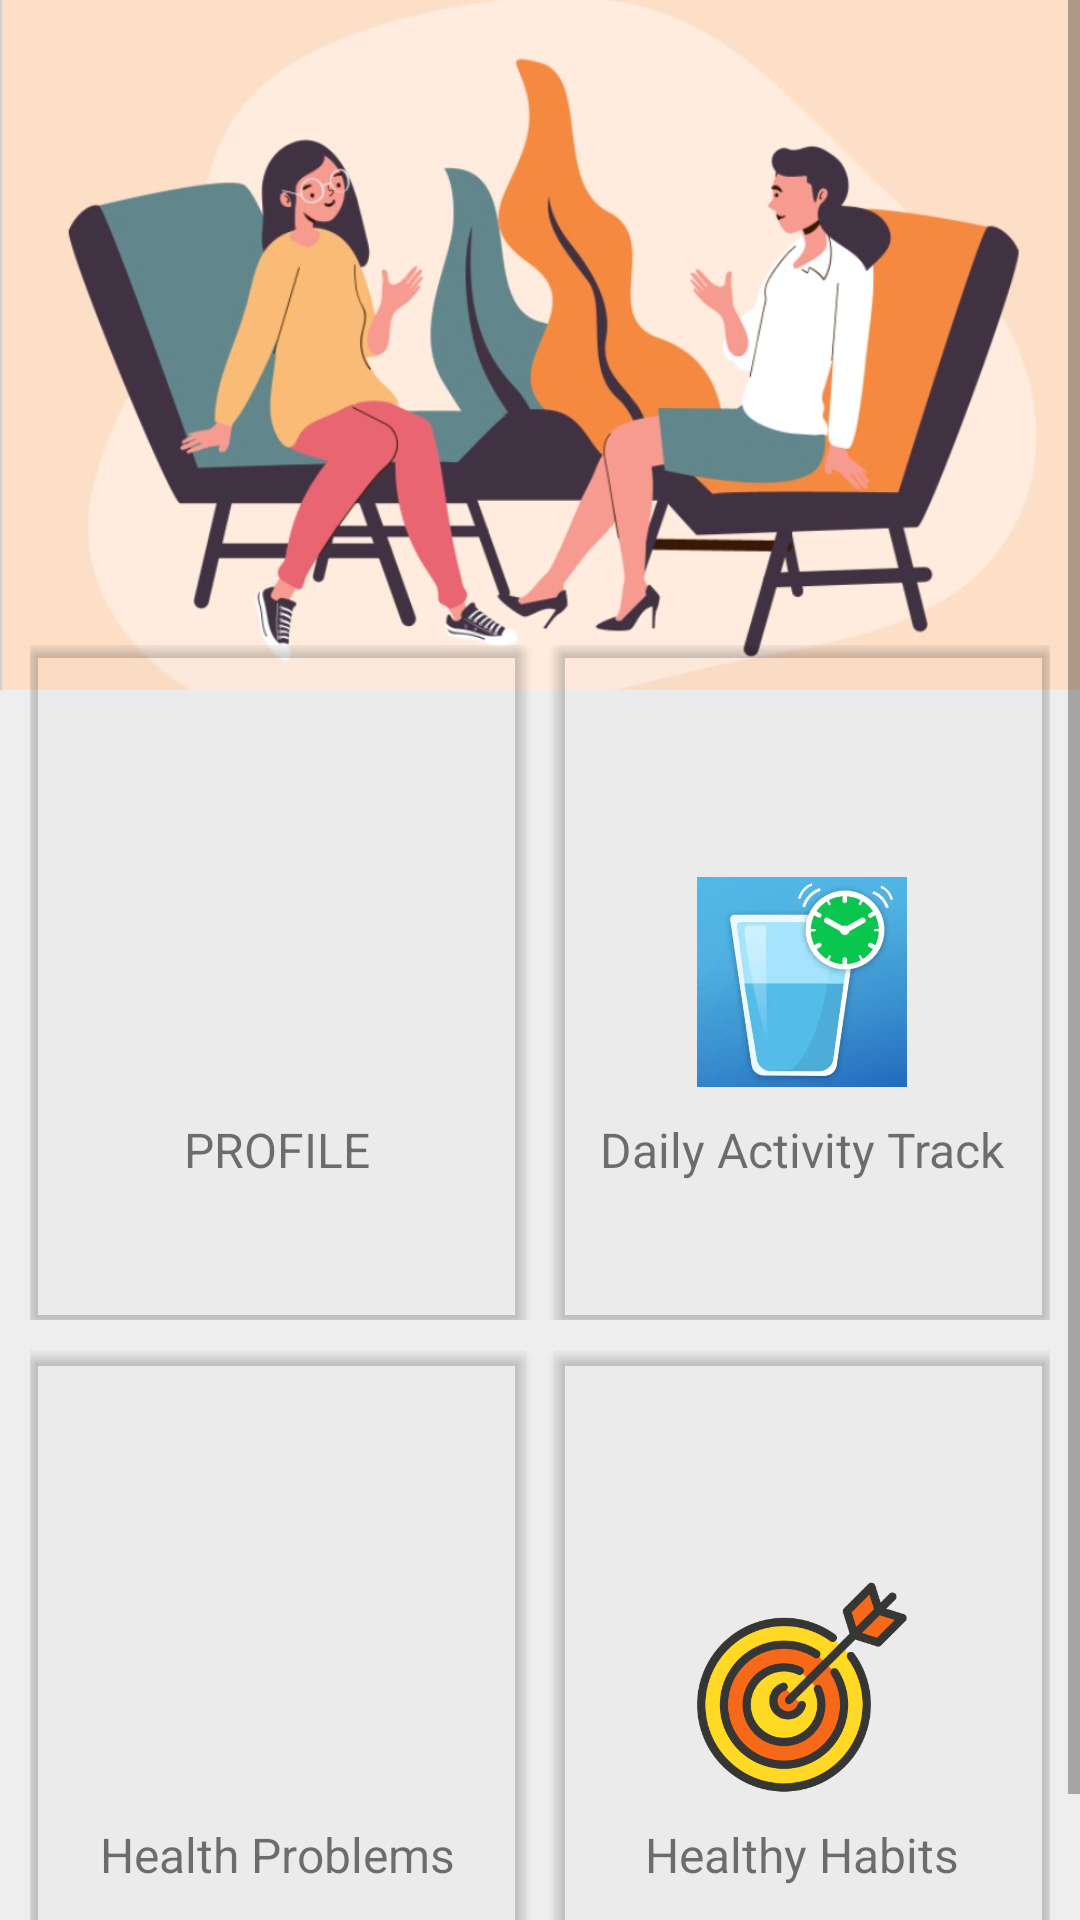

Named icons in this screenshot (1080px×1920px) and their bounding boxes, (x1, y1, x2, y2):
waterintake: (697, 877, 907, 1087)
